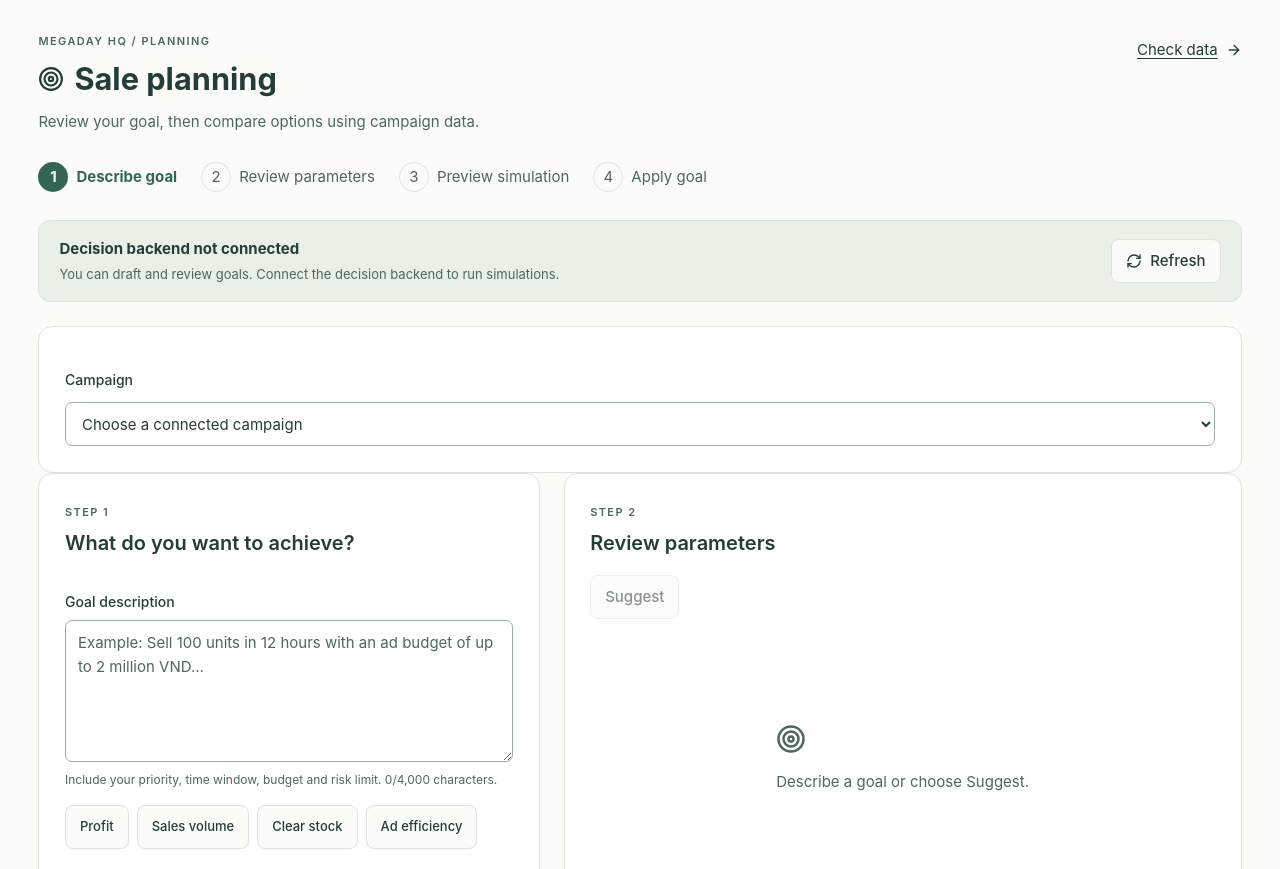
Test case: sale goal review and real simulation › allows interpretation without a backend and never substitutes fixture results
Expected: the button "Refresh" is enabled, [1111,239,1221,283]
Replace the text in the text box labelled "Goal description" with "Tối ưu lợi nhuận" at (289, 691), box [65,620,513,762]
(page scrolled)
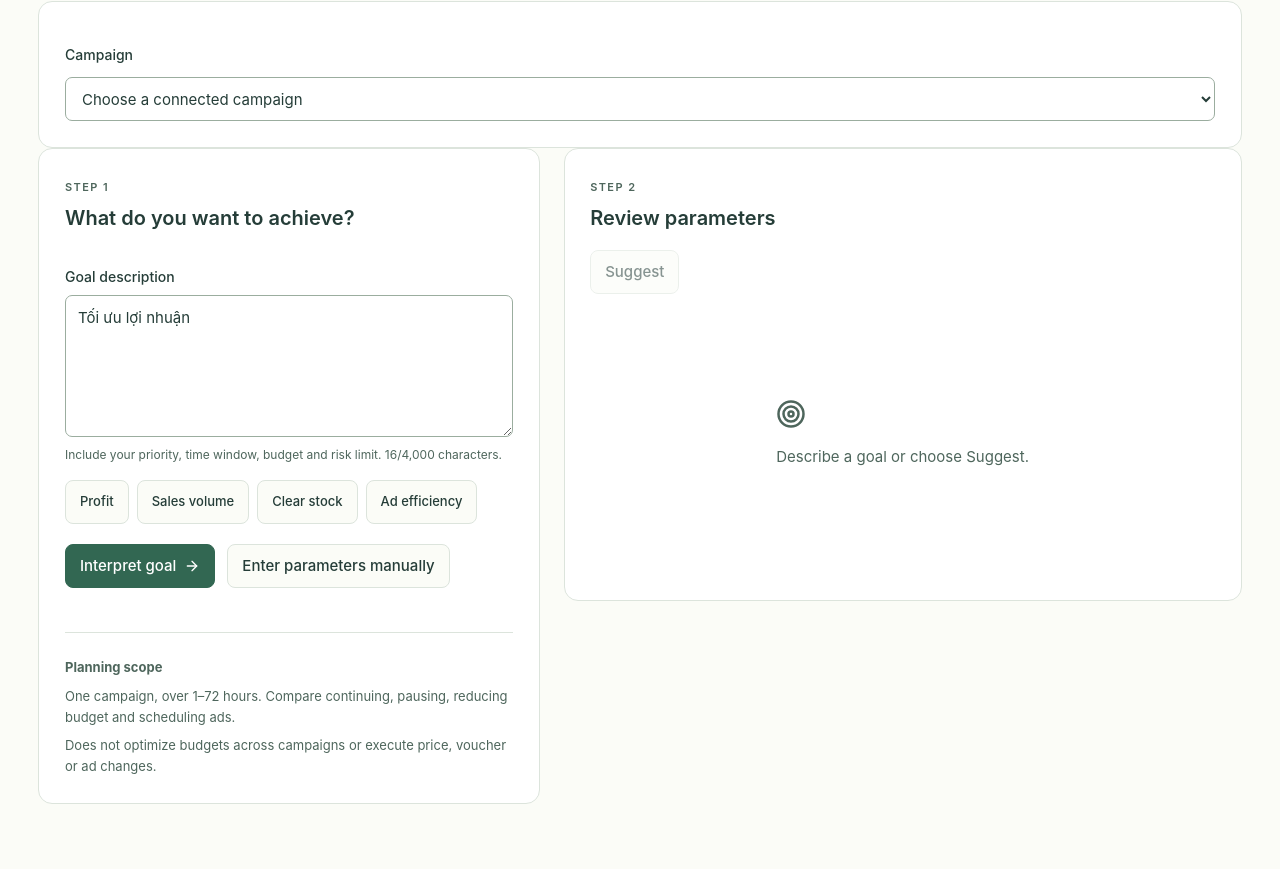
Click the button "Interpret goal".
click(140, 566)  # box [65,544,215,588]
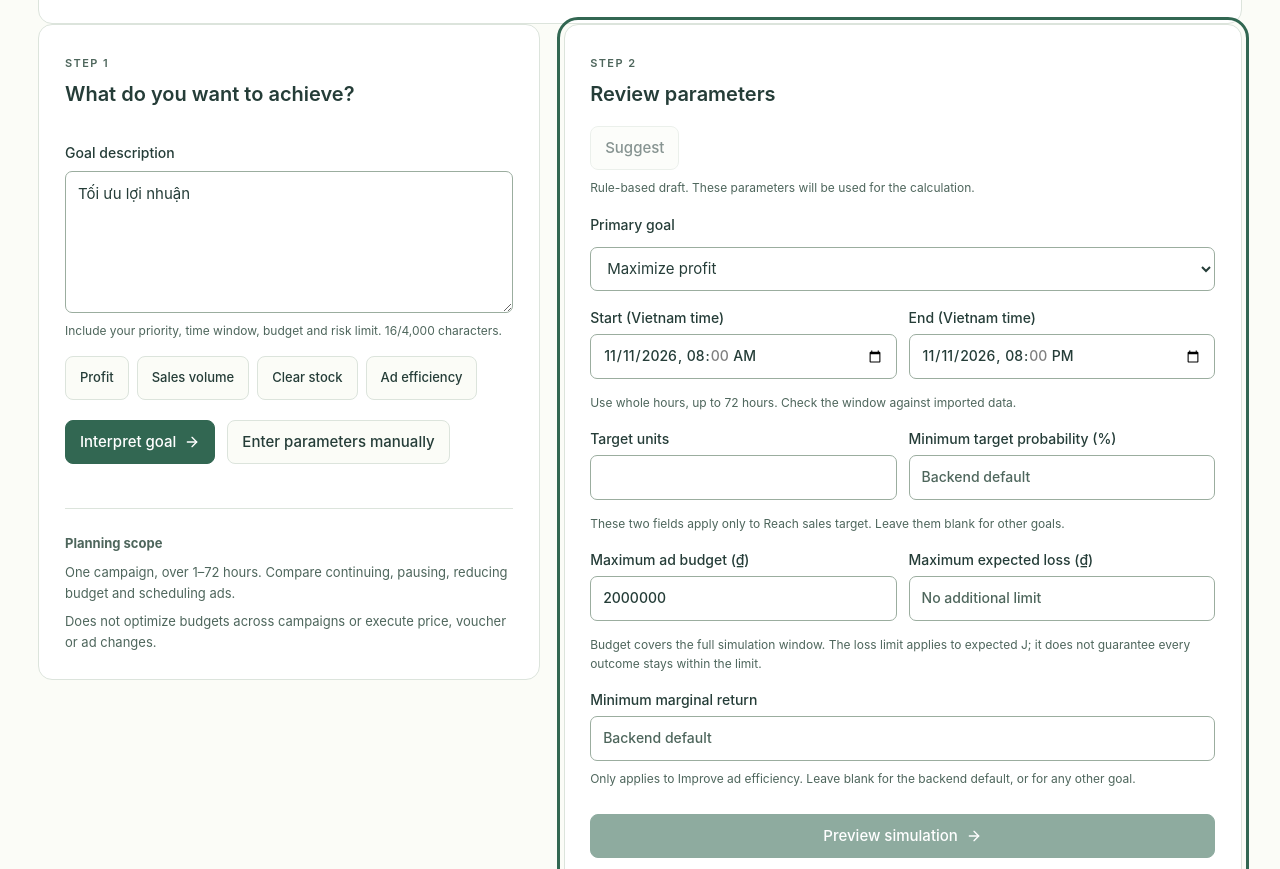
Expected: the dropdown labelled "Primary goal" is shown, [590,247,1215,291]
Expected: the button "Preview simulation" is disabled, [590,814,1215,858]
